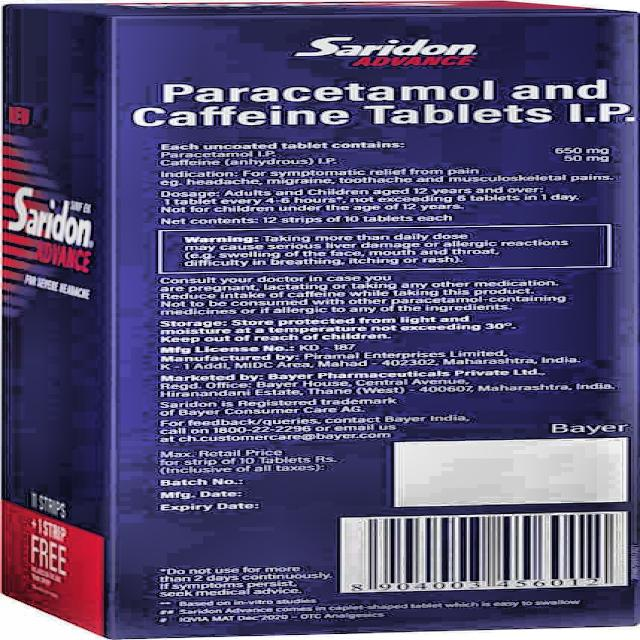Paracetamol: (7, 15, 638, 248)
